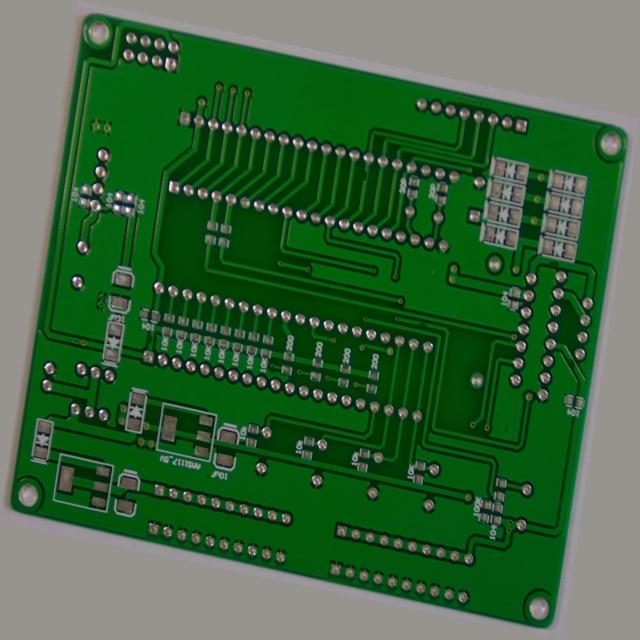mouse_bite: (596, 298, 612, 317), (425, 293, 443, 307), (560, 187, 578, 201), (340, 127, 352, 147), (130, 377, 142, 395)
